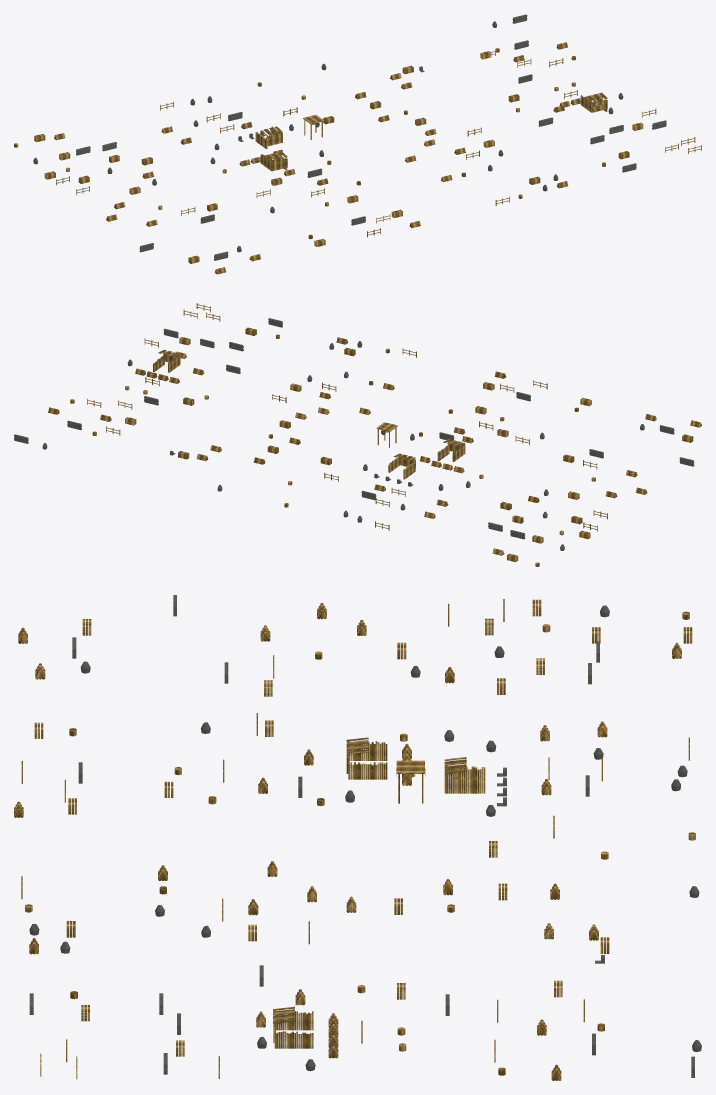
The model's file is obstacles.glb.
The picture shows the model from 3 angles, top to bottom: view 1: azimuth 30°, elevation 25°; view 2: azimuth 150°, elevation 25°; view 3: azimuth 270°, elevation 25°; orthographic projection. The views are drawn at different scales.
Parts seen in each view (by area): view 1: Village wood.001, Village stone.001; view 2: Village wood.001, Village stone.001; view 3: Village wood.001, Village stone.001.
Boxes of the visible parts, bbox=[...] form: Village wood.001: bbox=[14, 42, 701, 274]; Village stone.001: bbox=[33, 14, 666, 260]; Village wood.001: bbox=[48, 303, 701, 566]; Village stone.001: bbox=[14, 318, 694, 550]; Village wood.001: bbox=[14, 599, 695, 1080]; Village stone.001: bbox=[29, 595, 701, 1077].
Bounding box in the file's own units: 144 × 7.77 × 87.72.
2 materials, 2 textured.
